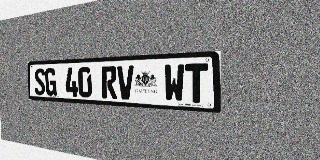0: (78, 67, 92, 98)
4: (65, 67, 78, 97)
G: (45, 68, 57, 96)
R: (102, 66, 117, 99)
S: (34, 68, 45, 95)
T: (185, 63, 208, 104)
V: (117, 65, 134, 100)
W: (164, 64, 185, 102)
